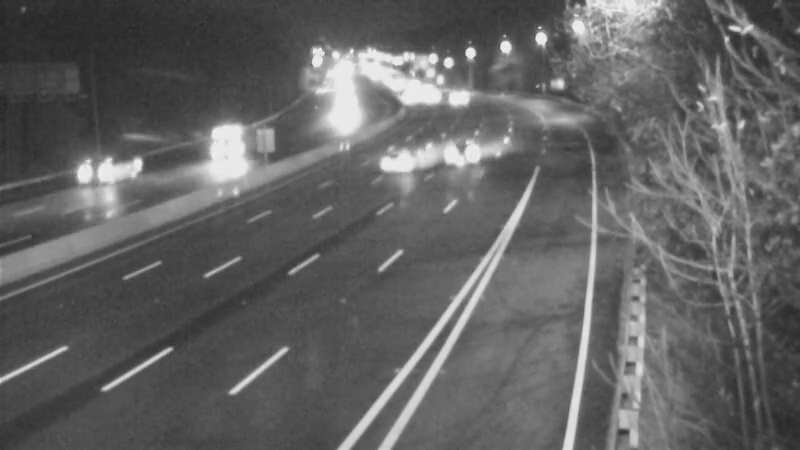vehicle: (349, 122, 429, 202), (59, 134, 139, 214), (431, 70, 481, 120), (439, 119, 489, 169), (197, 121, 247, 171), (320, 96, 370, 146)
